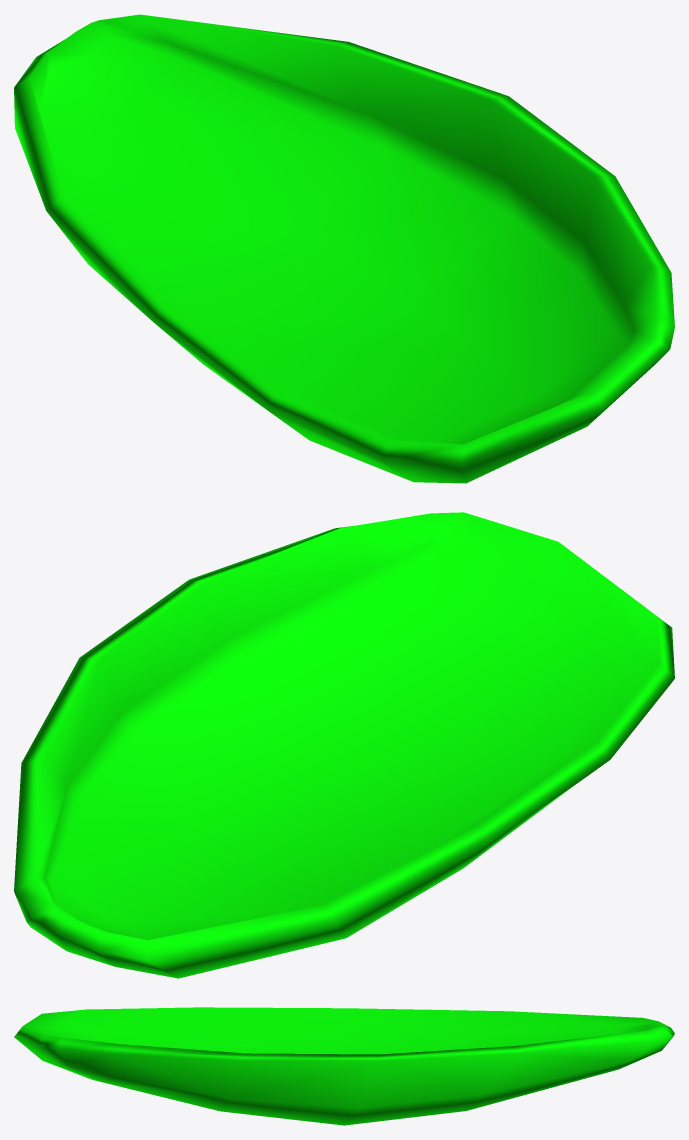
Rendered from Shell_6.fbx.
The picture shows the model from 3 angles, top to bottom: view 1: azimuth 30°, elevation 25°; view 2: azimuth 150°, elevation 25°; view 3: azimuth 270°, elevation 25°; orthographic projection. The views are drawn at different scales.
Visible parts, largest first — view 1: Shell_6; view 2: Shell_6; view 3: Shell_6.
Boxes of the visible parts, x1,y1,x2,y2 form: Shell_6: [14, 14, 674, 483]; Shell_6: [14, 512, 674, 978]; Shell_6: [14, 1007, 674, 1125].
Size of the model in its own units: 48.29 by 19.11 by 111.
